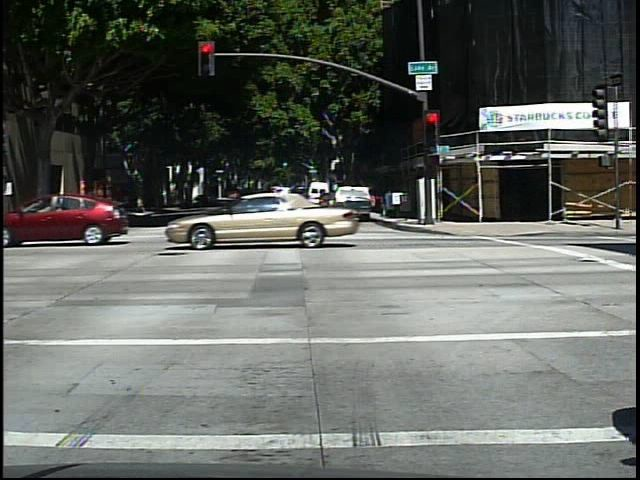person: (82, 184, 112, 237)
